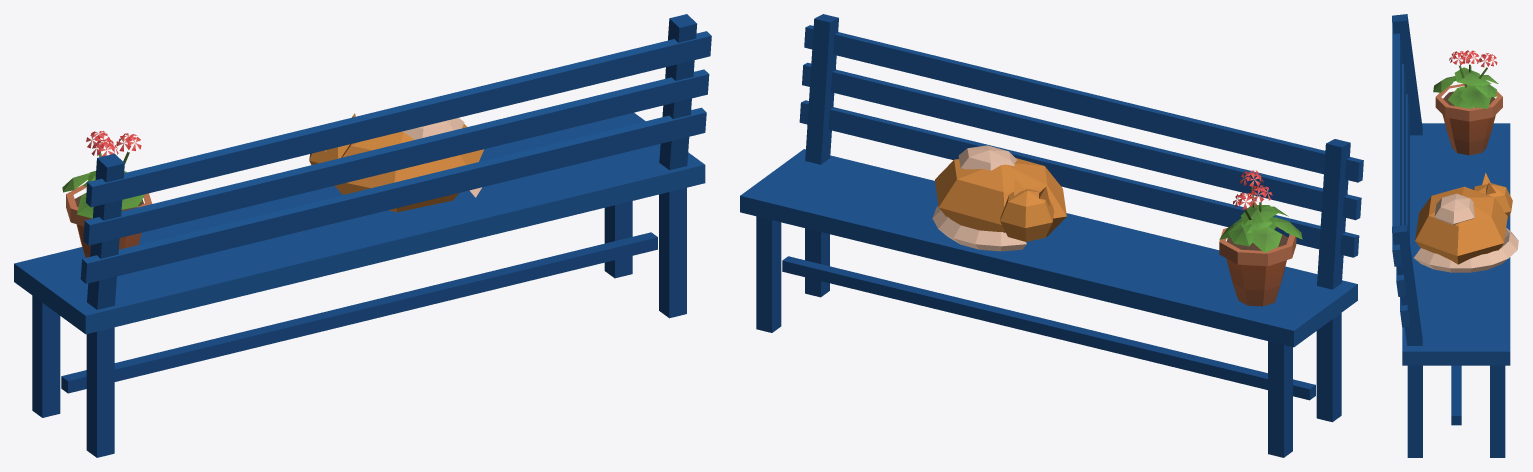
Rendered from bench_sbs.glb.
The picture shows the model from 3 angles, left to right: view 1: azimuth 30°, elevation 25°; view 2: azimuth 150°, elevation 25°; view 3: azimuth 270°, elevation 25°; orthographic projection. The views are drawn at different scales.
Parts seen in each view (by area): view 1: bench_sbs; view 2: bench_sbs; view 3: bench_sbs.
Boxes of the visible parts, box(x1,y1,x2,y2) form: bench_sbs: box(14, 14, 711, 457); bench_sbs: box(740, 14, 1363, 457); bench_sbs: box(1392, 14, 1518, 457).
Size of the model in its own units: 2.1 by 0.9718 by 0.4924.
